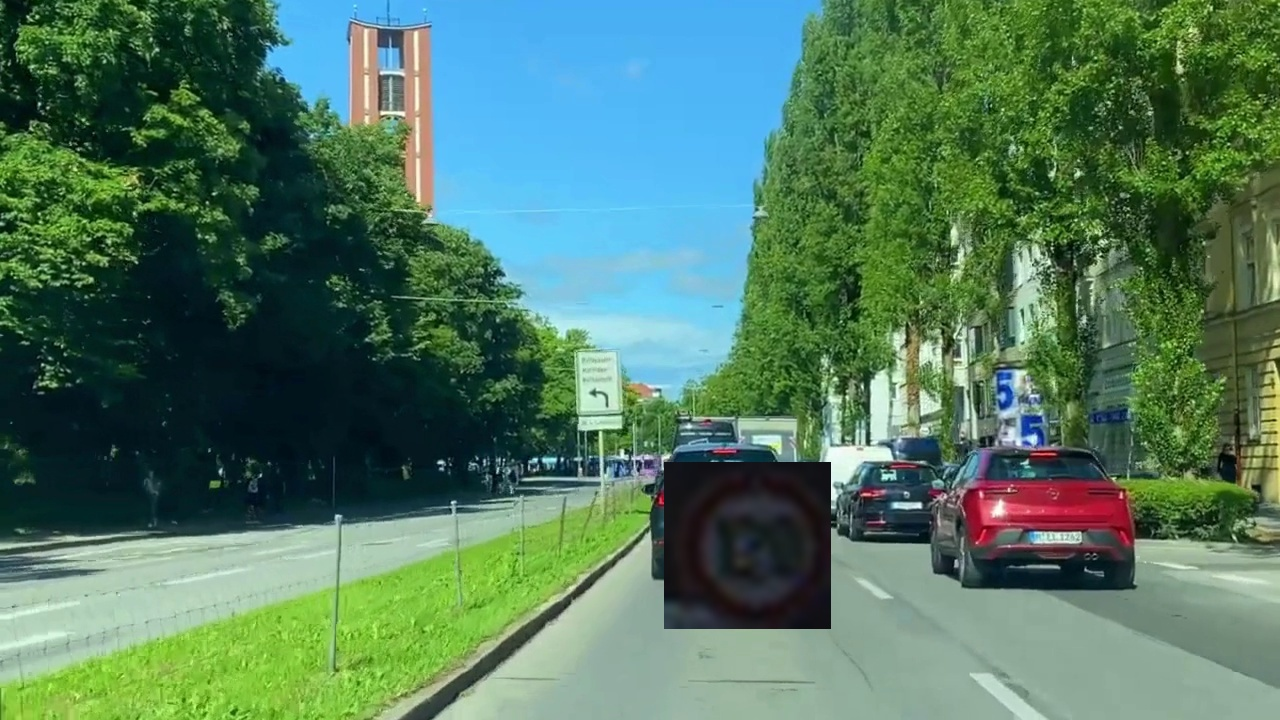Speed 120: (664, 462, 831, 629)
